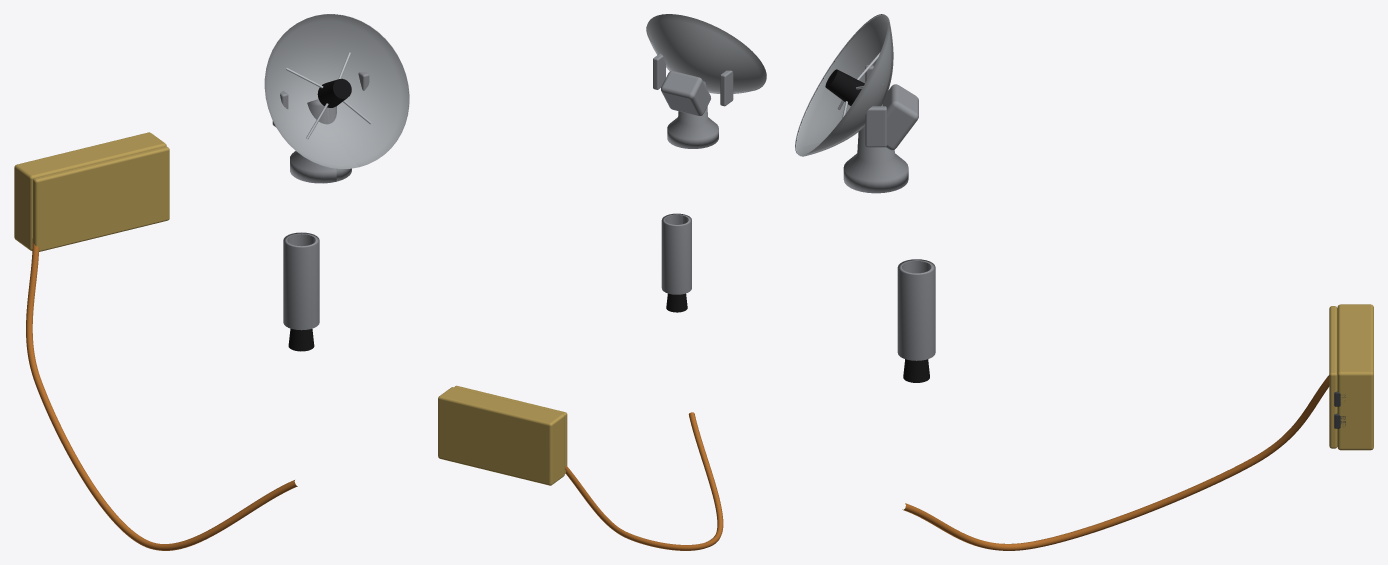
File: apollo-avionics.glb
The picture shows the model from 3 angles, left to right: view 1: azimuth 30°, elevation 25°; view 2: azimuth 150°, elevation 25°; view 3: azimuth 270°, elevation 25°; orthographic projection. The views are drawn at different scales.
Parts seen in each view (by area): view 1: RENDEZVOUS_RADAR_Panel_acolchado_de_aluminio_escudo_t_rmico_, CHASSIS_COVER_Anodizado_dorado_iridita_, GUIDANCE_COMPUTER_Anodizado_dorado_iridita_, AGC_HARNESS_Mazo_encintado_en_Kapton, ALIGNMENT_TELESCOPE_Aluminio_anodizado_gris, RENDEZVOUS_RADAR, ALIGNMENT_TELESCOPE; view 2: GUIDANCE_COMPUTER_Anodizado_dorado_iridita_, RENDEZVOUS_RADAR_Panel_acolchado_de_aluminio_escudo_t_rmico_, RENDEZVOUS_RADAR, ALIGNMENT_TELESCOPE_Aluminio_anodizado_gris, AGC_HARNESS_Mazo_encintado_en_Kapton, CHASSIS_COVER_Anodizado_dorado_iridita_; view 3: RENDEZVOUS_RADAR_Panel_acolchado_de_aluminio_escudo_t_rmico_, RENDEZVOUS_RADAR, GUIDANCE_COMPUTER_Anodizado_dorado_iridita_, ALIGNMENT_TELESCOPE_Aluminio_anodizado_gris, AGC_HARNESS_Mazo_encintado_en_Kapton, CHASSIS_COVER_Anodizado_dorado_iridita_.
Part boxes in pixels (x1,y1,x2,y2): RENDEZVOUS_RADAR_Panel_acolchado_de_aluminio_escudo_t_rmico_: (264,14,409,168); CHASSIS_COVER_Anodizado_dorado_iridita_: (33,146,169,251); GUIDANCE_COMPUTER_Anodizado_dorado_iridita_: (14,132,166,250); AGC_HARNESS_Mazo_encintado_en_Kapton: (26,238,297,550); ALIGNMENT_TELESCOPE_Aluminio_anodizado_gris: (283,232,319,330); RENDEZVOUS_RADAR: (272,52,371,183); ALIGNMENT_TELESCOPE: (288,328,314,351); GUIDANCE_COMPUTER_Anodizado_dorado_iridita_: (438,387,564,485); RENDEZVOUS_RADAR_Panel_acolchado_de_aluminio_escudo_t_rmico_: (646,14,766,93); RENDEZVOUS_RADAR: (653,53,733,148); ALIGNMENT_TELESCOPE_Aluminio_anodizado_gris: (661,213,691,294); AGC_HARNESS_Mazo_encintado_en_Kapton: (565,412,723,550); CHASSIS_COVER_Anodizado_dorado_iridita_: (454,385,567,473); RENDEZVOUS_RADAR_Panel_acolchado_de_aluminio_escudo_t_rmico_: (795,14,893,156); RENDEZVOUS_RADAR: (825,52,918,193); GUIDANCE_COMPUTER_Anodizado_dorado_iridita_: (1337,304,1373,450); ALIGNMENT_TELESCOPE_Aluminio_anodizado_gris: (897,259,935,360); AGC_HARNESS_Mazo_encintado_en_Kapton: (902,375,1329,550); CHASSIS_COVER_Anodizado_dorado_iridita_: (1329,306,1337,448).
Bounding box in the file's own units: 0.8059 × 2.36 × 2.14.
